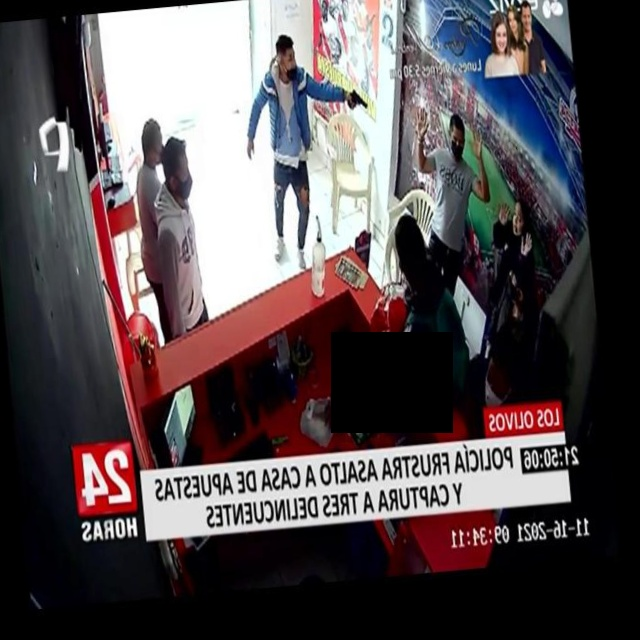gun: (341, 75, 377, 126)
